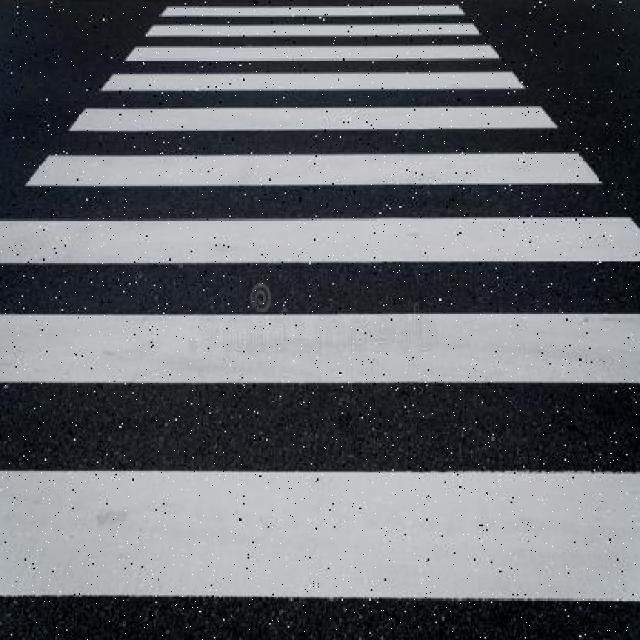Pedestrian crosswalk: (0, 0, 637, 623)
